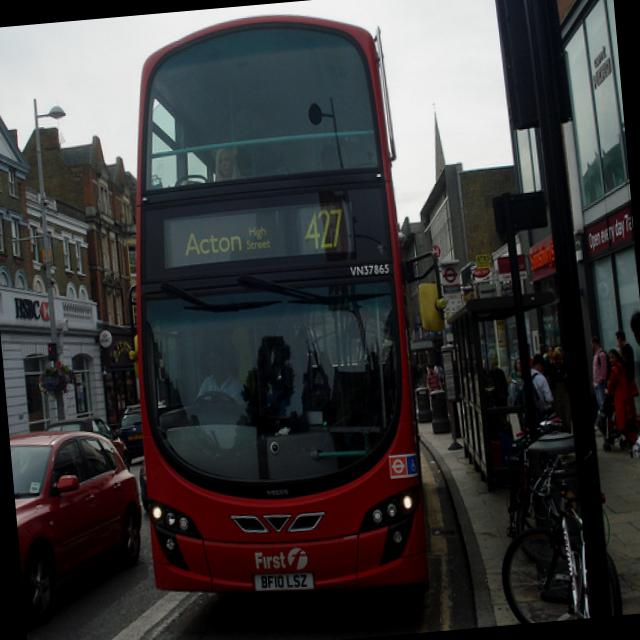Vehicle: (102, 5, 432, 610), (9, 422, 151, 626), (43, 413, 133, 477), (114, 405, 144, 460)
